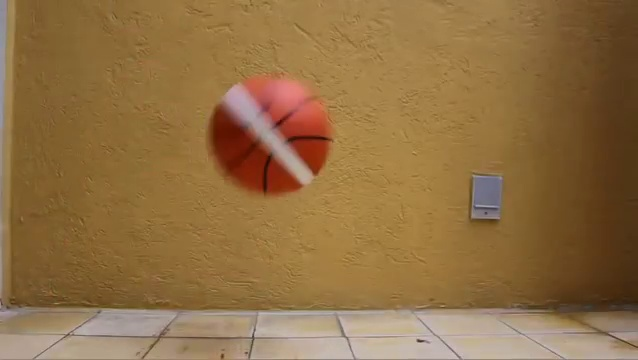ball: (207, 73, 333, 197)
